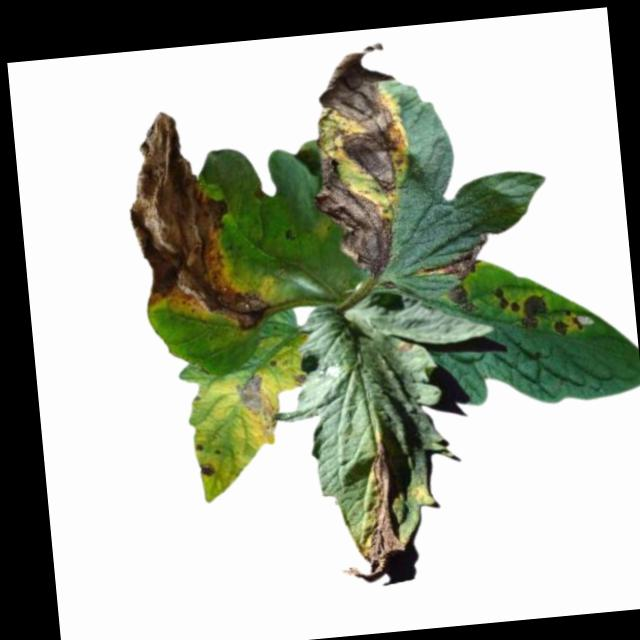Early_blight: (119, 102, 273, 337), (302, 36, 421, 283), (329, 434, 411, 584), (416, 232, 494, 316), (234, 369, 280, 434), (518, 291, 547, 330), (553, 309, 585, 336), (495, 284, 520, 316), (198, 457, 219, 478)
